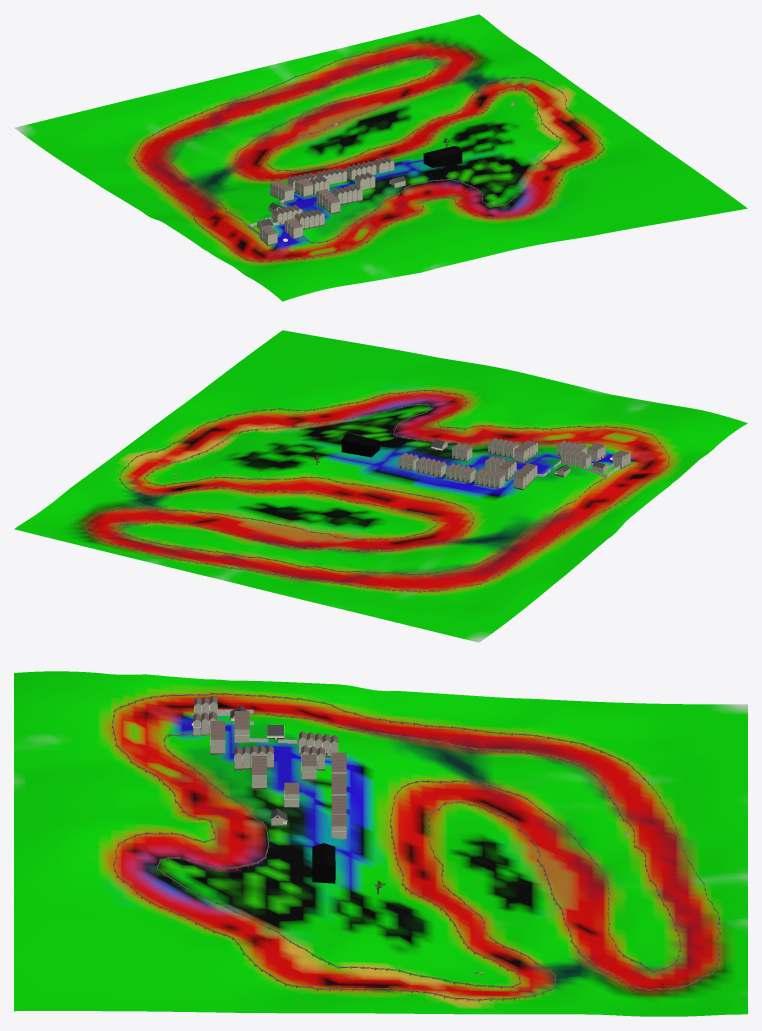
Rendered from wild_fields.glb.
The picture shows the model from 3 angles, top to bottom: view 1: azimuth 30°, elevation 25°; view 2: azimuth 150°, elevation 25°; view 3: azimuth 270°, elevation 25°; orthographic projection. The views are drawn at different scales.
Visible parts, largest first — view 1: track-col, fence; view 2: track-col, fence; view 3: track-col, fence.
Part boxes in pixels (x1,y1,x2,y2): track-col: (14,14,747,301); fence: (423,146,462,167); track-col: (14,330,747,642); fence: (341,433,379,457); track-col: (14,671,747,1016); fence: (312,843,335,883).
Size of what is drawn, in the model's own units: 640 by 54.35 by 640.
Materials: 9 (4 with a texture image).
